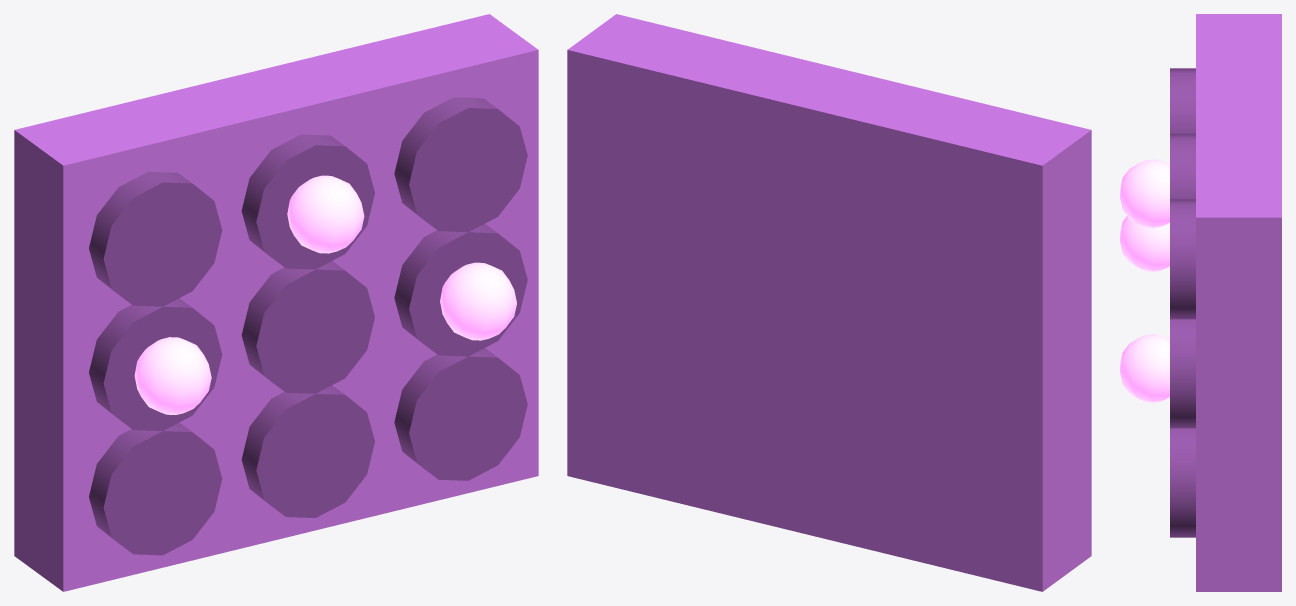
The model's file is matriz_optica_solar.glb.
3 renders of one model, left to right at view 1: azimuth 30°, elevation 25°; view 2: azimuth 150°, elevation 25°; view 3: azimuth 270°, elevation 25°, orthographic. The views are drawn at different scales.
Parts seen in each view (by area): view 1: Body, Detail, Glow; view 2: Body; view 3: Body, Detail, Glow.
Part boxes in pixels (x1,y1,x2,y2): Body: [14, 14, 538, 591]; Detail: [89, 97, 527, 555]; Glow: [134, 175, 516, 414]; Body: [567, 14, 1091, 591]; Body: [1196, 14, 1281, 591]; Detail: [1170, 68, 1195, 537]; Glow: [1120, 159, 1169, 402].
Size of the model in its own units: 0.28 by 0.24 by 0.094.
